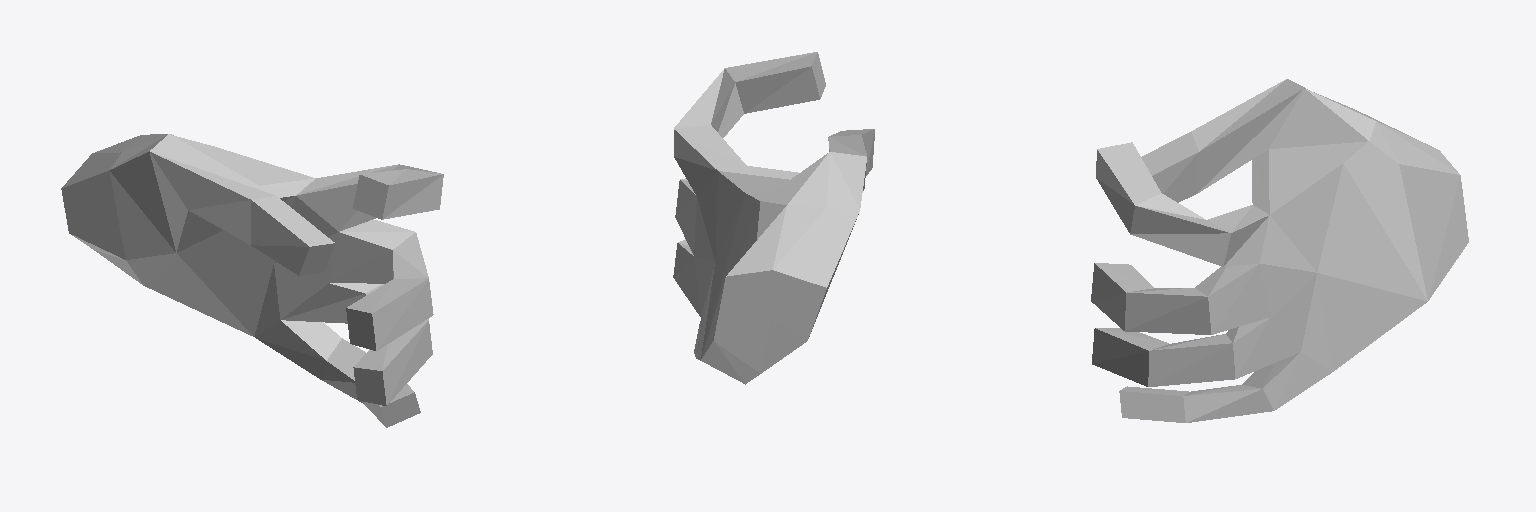
File: Flute_LeftHand02.obj
The picture shows the model from 3 angles: view 1: azimuth 30°, elevation 25°; view 2: azimuth 150°, elevation 25°; view 3: azimuth 270°, elevation 25°; orthographic projection.
Visible parts, largest first — view 1: Converted object 0; view 2: Converted object 0; view 3: Converted object 0.
Part boxes in pixels (x1,y1,x2,y2): Converted object 0: (61,134,443,427); Converted object 0: (673,52,874,384); Converted object 0: (1091,79,1468,422).
Size of the model in its own units: 3.65 by 3.62 by 4.72.